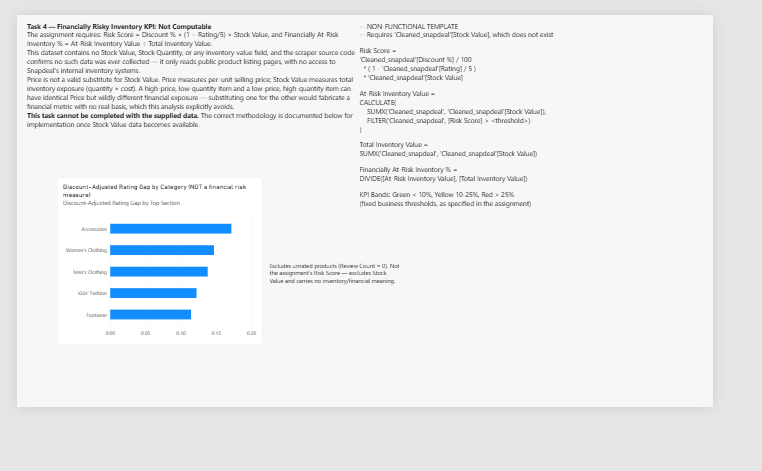

The dashboard page shown, as its layout file describes it:
{"tool":"powerbi","page":{"name":"Page 4","canvas":[1920,1080],"ordinal":3},"visuals":[{"type":"textbox","box":[26.2,16.7,909.5,1064.3],"z":0},{"type":"textbox","box":[946,17,910,1063],"z":1000},{"type":"barChart","title":"Discount-Adjusted Rating Gap by Category (NOT a financial risk measure)","fields":{"Category":["Cleaned_snapdeal.Top Section"],"Y":["Cleaned_snapdeal.Discount-Adjusted Rating Gap"]},"box":[109.5,447.6,566.7,461.9],"z":2000},{"type":"textbox","box":[695.2,678.6,359.5,121.4],"z":3000}]}

Visuals, with their boxes on the page's 1920x1080 design canvas (x1, y1, x2, y2). These are canvas units, not pixel positions in the 762x471 screenshot, which may show the page scaled, cropped or inside an application window:
textbox: 26/17/936/1081
textbox: 946/17/1856/1080
"Discount-Adjusted Rating Gap by Category (NOT a financial risk measure)" barChart: 110/448/676/910
textbox: 695/679/1055/800
